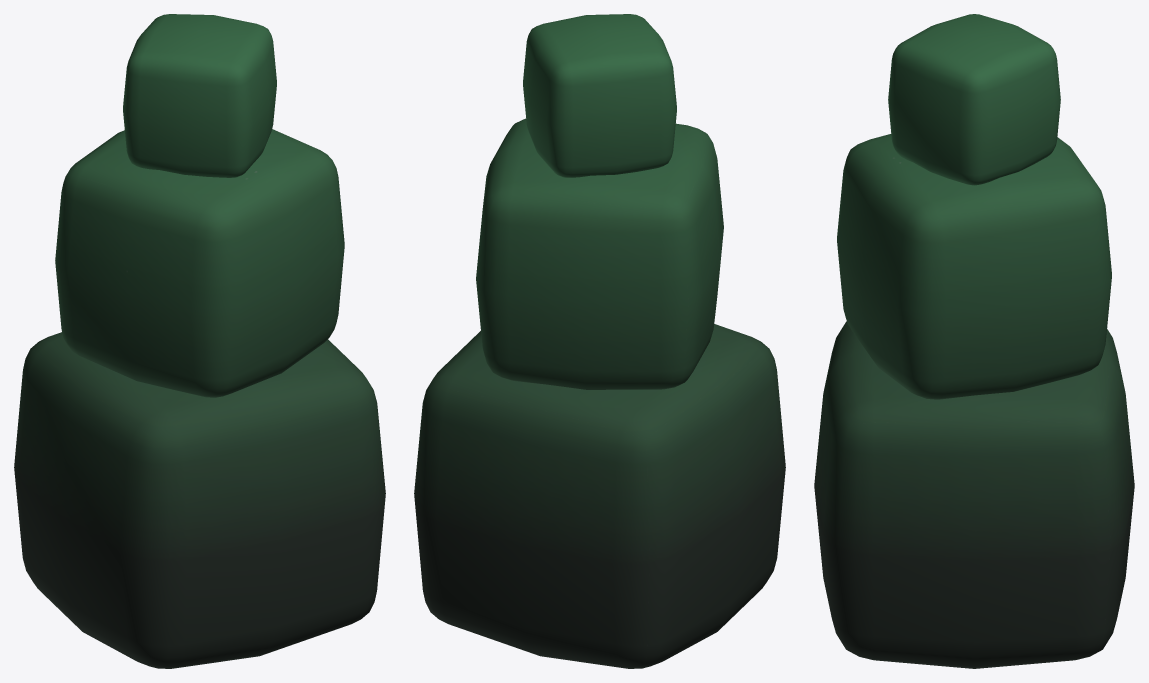
The model's file is lowpolyTree01-B.fbx.
3 renders of one model, left to right at view 1: azimuth 30°, elevation 25°; view 2: azimuth 150°, elevation 25°; view 3: azimuth 270°, elevation 25°, orthographic.
Parts seen in each view (by area): view 1: Cube.003; view 2: Cube.003; view 3: Cube.003.
Part boxes in pixels (x1,y1,x2,y2): Cube.003: (14, 14, 385, 668); Cube.003: (414, 14, 785, 668); Cube.003: (814, 14, 1134, 668).
Bounding box in the file's own units: 351 × 720 × 351.
1 material, 1 textured.
